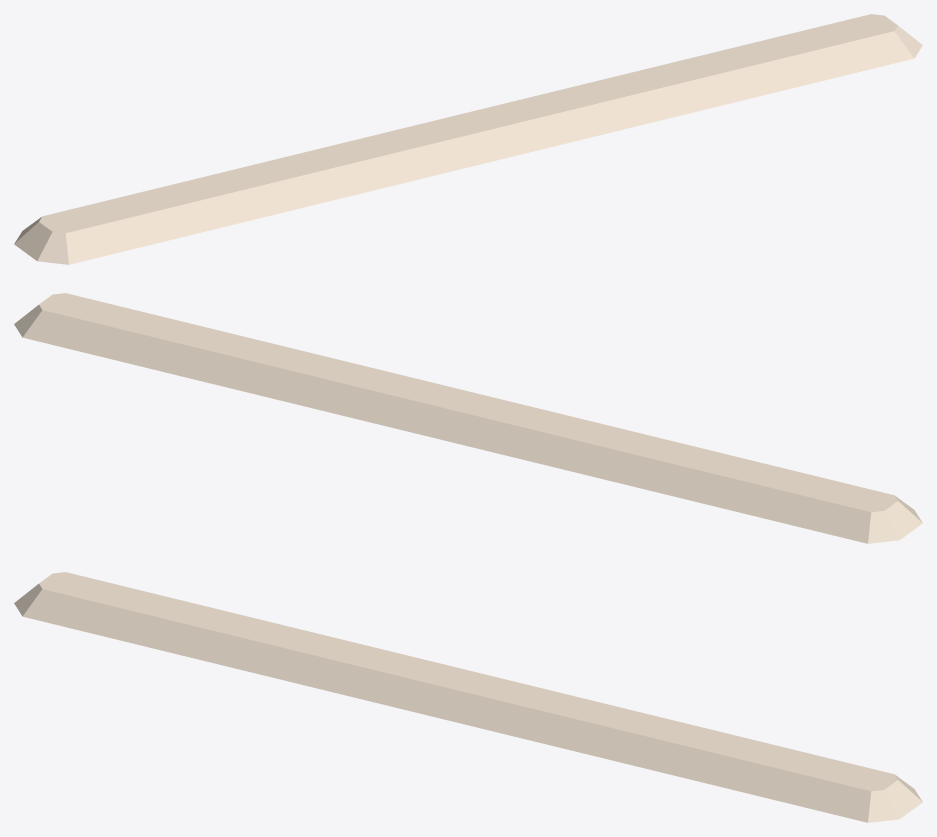
File: Puzzle_Closed_Conduit_Straight.glb
The picture shows the model from 3 angles, top to bottom: view 1: azimuth 30°, elevation 25°; view 2: azimuth 150°, elevation 25°; view 3: azimuth 330°, elevation 25°; orthographic projection.
Visible parts, largest first — view 1: Sandstone_Trim; view 2: Sandstone_Trim; view 3: Sandstone_Trim.
Boxes of the visible parts, box(x1,y1,x2,y2) form: Sandstone_Trim: box(14, 14, 922, 264); Sandstone_Trim: box(14, 293, 922, 543); Sandstone_Trim: box(14, 572, 922, 822).
Size of the model in its own units: 1.1 by 0.025 by 0.1.
